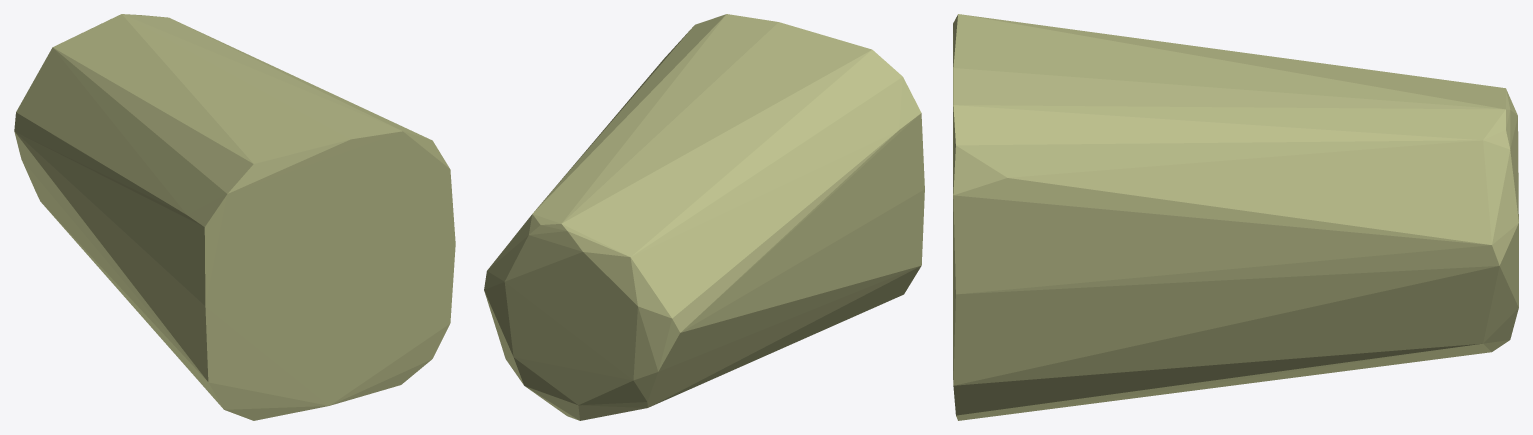
The model's file is dishware_plastic_cup_a01.glb.
3 renders of one model, left to right at view 1: azimuth 30°, elevation 25°; view 2: azimuth 150°, elevation 25°; view 3: azimuth 270°, elevation 25°, orthographic. The views are drawn at different scales.
Visible parts, largest first — view 1: geometry_0; view 2: geometry_0; view 3: geometry_0.
Part boxes in pixels (x1,y1,x2,y2): geometry_0: [14, 14, 455, 420]; geometry_0: [484, 14, 924, 420]; geometry_0: [953, 14, 1518, 420].
Size of the model in its own units: 0.3048 by 0.3036 by 0.48.
